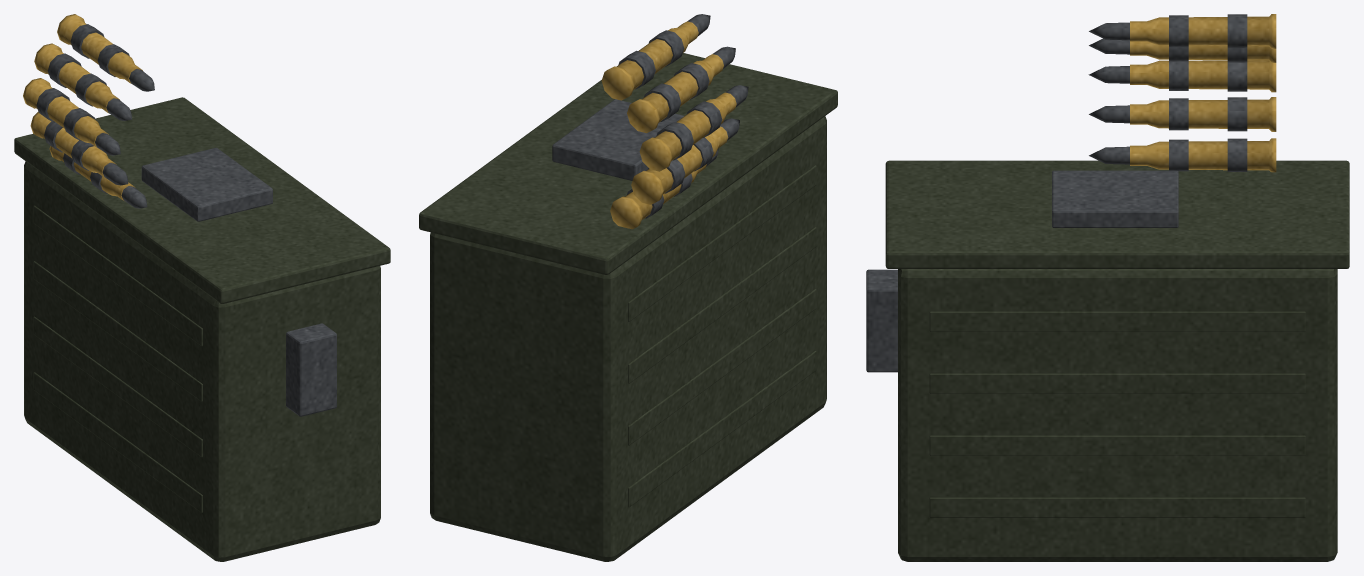
The model's file is box_pkp.glb.
3 renders of one model, left to right at view 1: azimuth 30°, elevation 25°; view 2: azimuth 150°, elevation 25°; view 3: azimuth 270°, elevation 25°, orthographic. The views are drawn at different scales.
Visible parts, largest first — view 1: box_pkp; view 2: box_pkp; view 3: box_pkp.
Boxes of the visible parts, box(x1,y1,x2,y2) form: box_pkp: box(14, 14, 390, 561); box_pkp: box(419, 14, 837, 561); box_pkp: box(866, 14, 1349, 561).
Bounding box in the file's own units: 0.1022 × 0.2148 × 0.198.
Materials: 3 (3 with a texture image).
